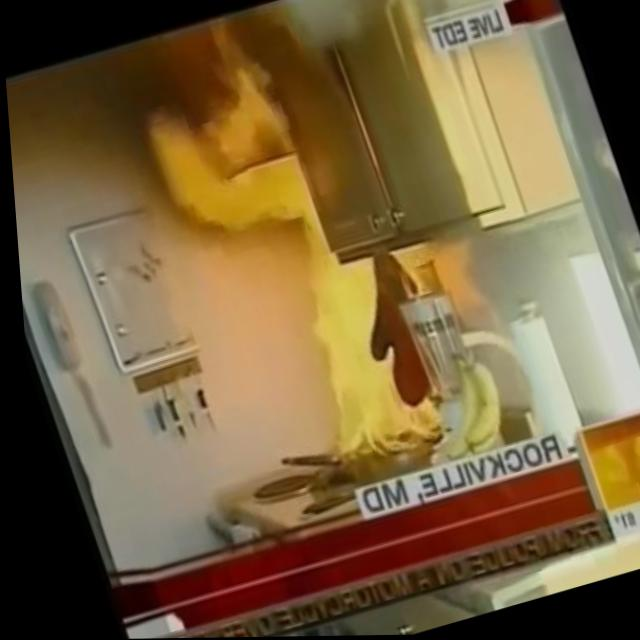fire: (248, 206, 444, 481)
